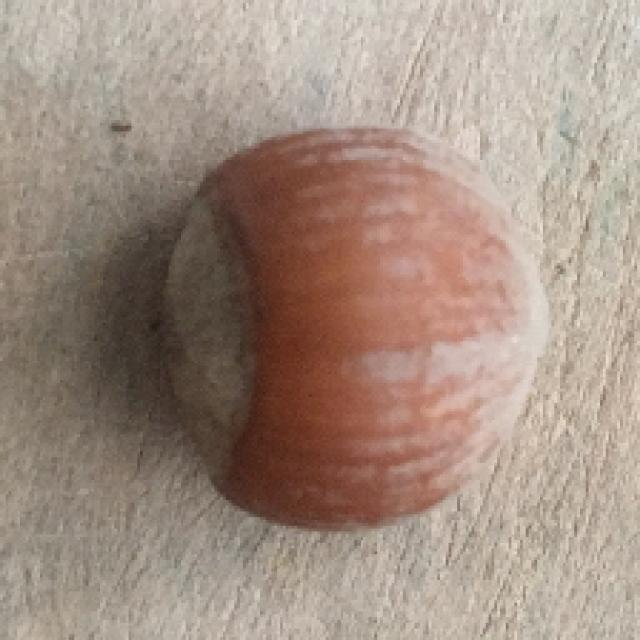QualityHazelnut: (158, 121, 552, 534)
